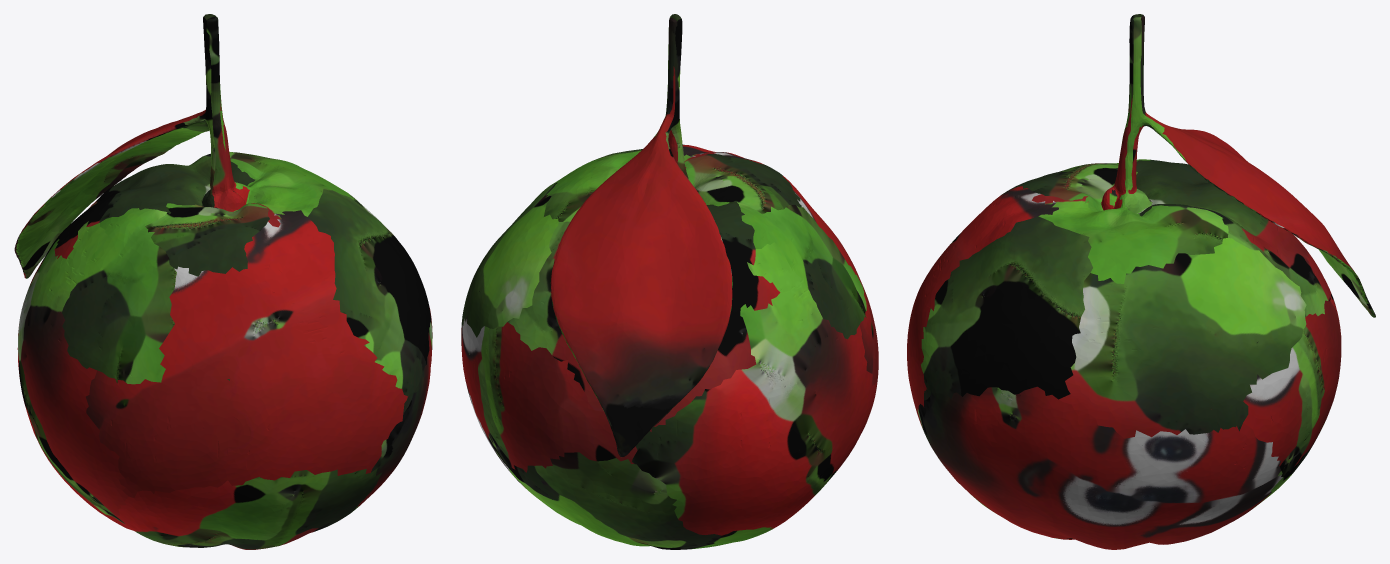
Rendered from sample.obj.
3 views of the same model, side by side, from view 1: azimuth 30°, elevation 25°; view 2: azimuth 150°, elevation 25°; view 3: azimuth 270°, elevation 25° (orthographic).
Bounding box in the file's own units: 0.0652 × 0.09 × 0.0755.
